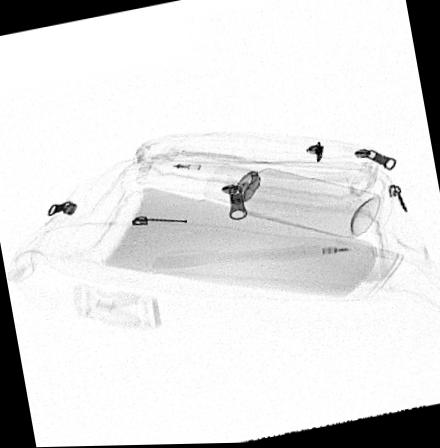Sprayer: (205, 164, 381, 239)
